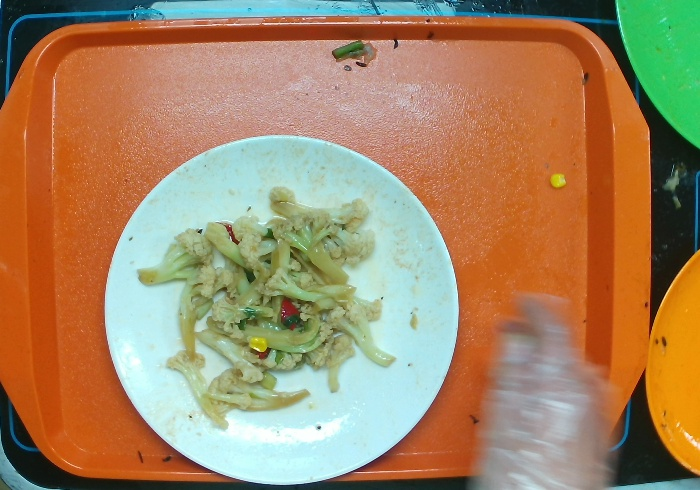HZYJPL-Bai_Se_Yuan_Pan: (93, 116, 470, 490)
